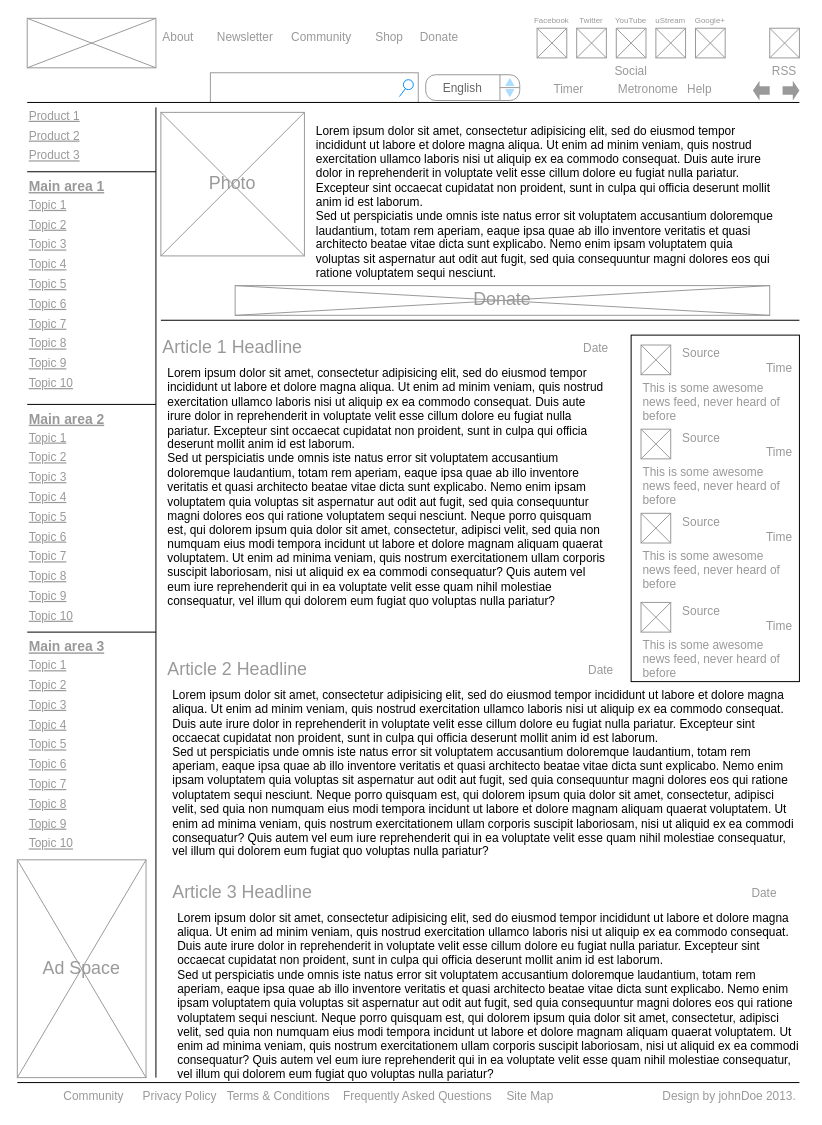
Some shapes in this 822 by 1125 pixel diagram are drawn without their labels. The shapes that lost their labels are listed below. From the top down, each one's centre as x and y in pixels, then its label:
point (91, 42): Logo
point (313, 87): Search
